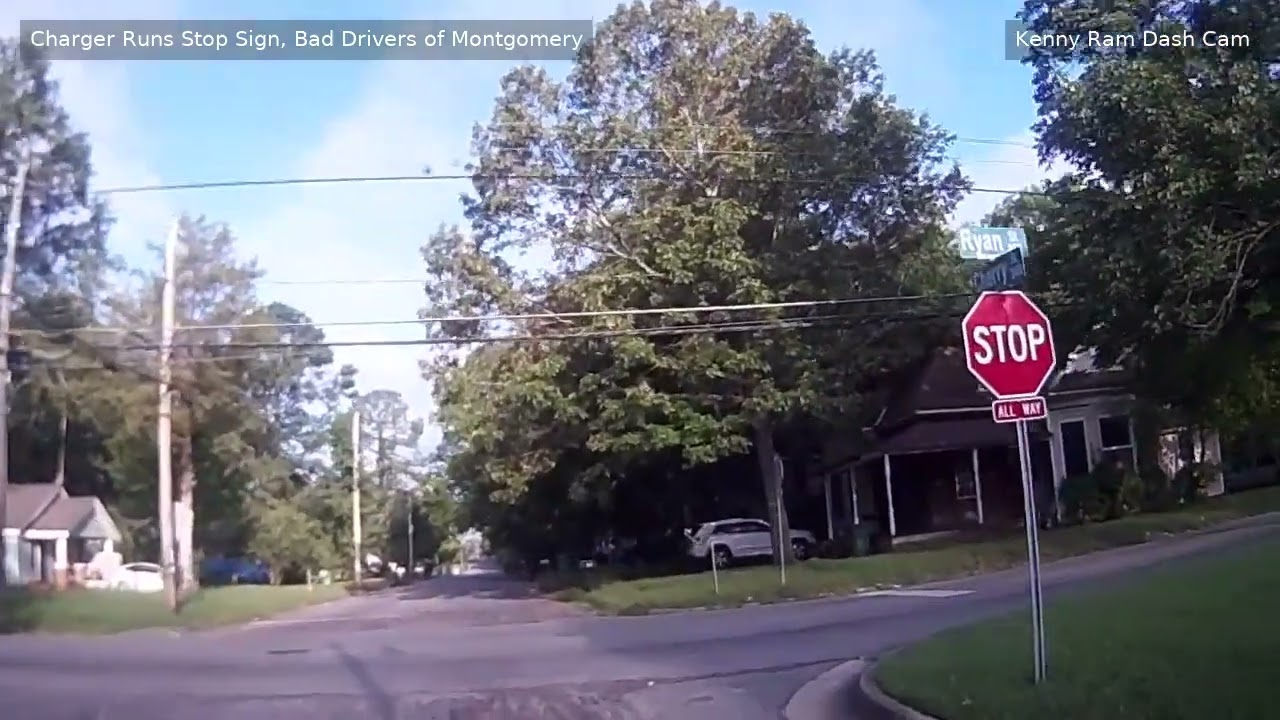StopSign: (960, 289, 1055, 400)
